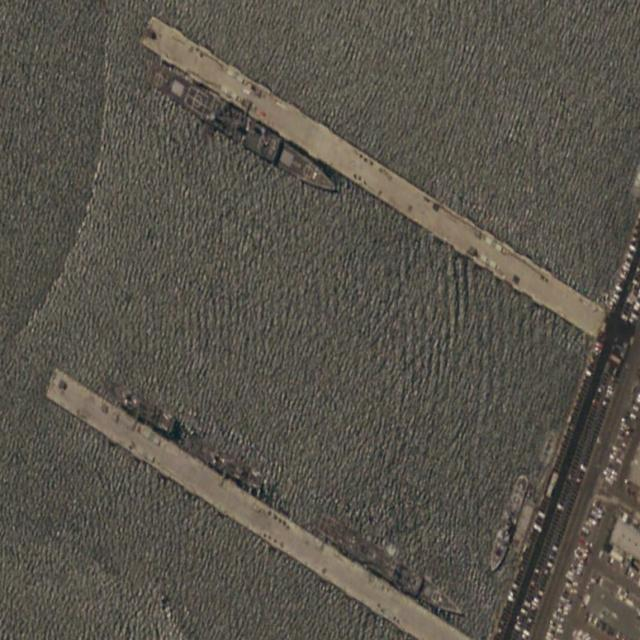Cruiser: (145, 55, 342, 199)
Frigate: (314, 508, 467, 628)
Other Ship: (92, 369, 176, 440), (180, 431, 264, 491), (486, 470, 532, 575)
